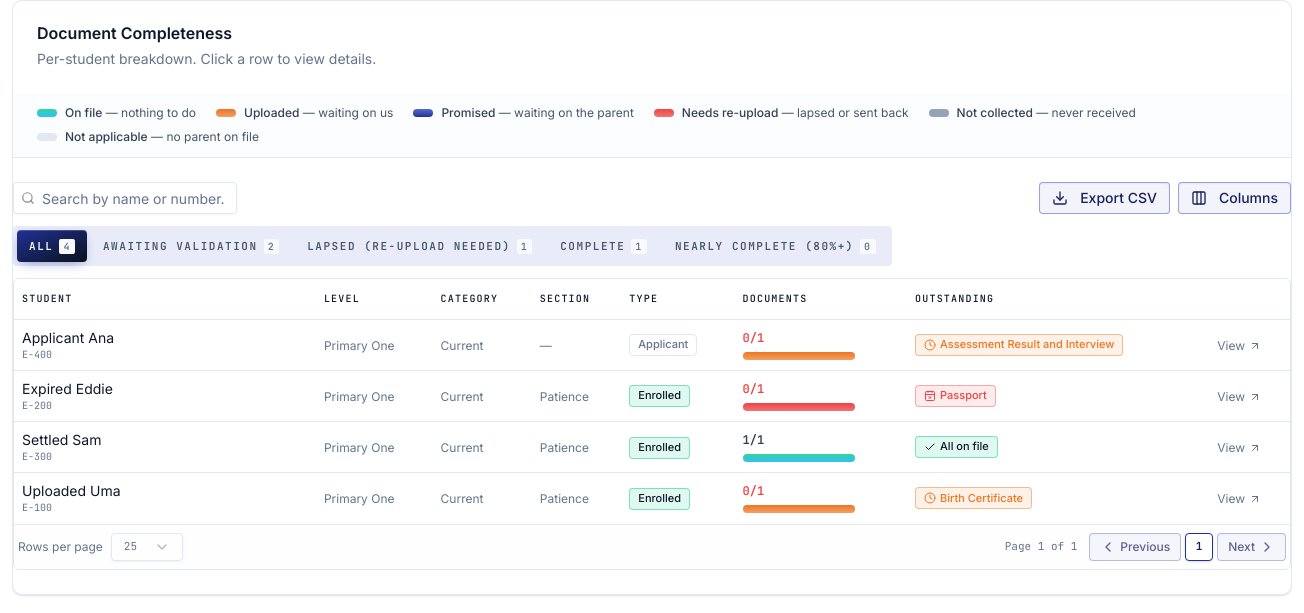
P-Files completeness table — Needs review filter › keeps Lapsed scoped to expiry, not to review
The image size is (1304, 613).
Click the tab "Lapsed (re-upload needed) 1". click: (420, 246)
box: [295,230,544,262]
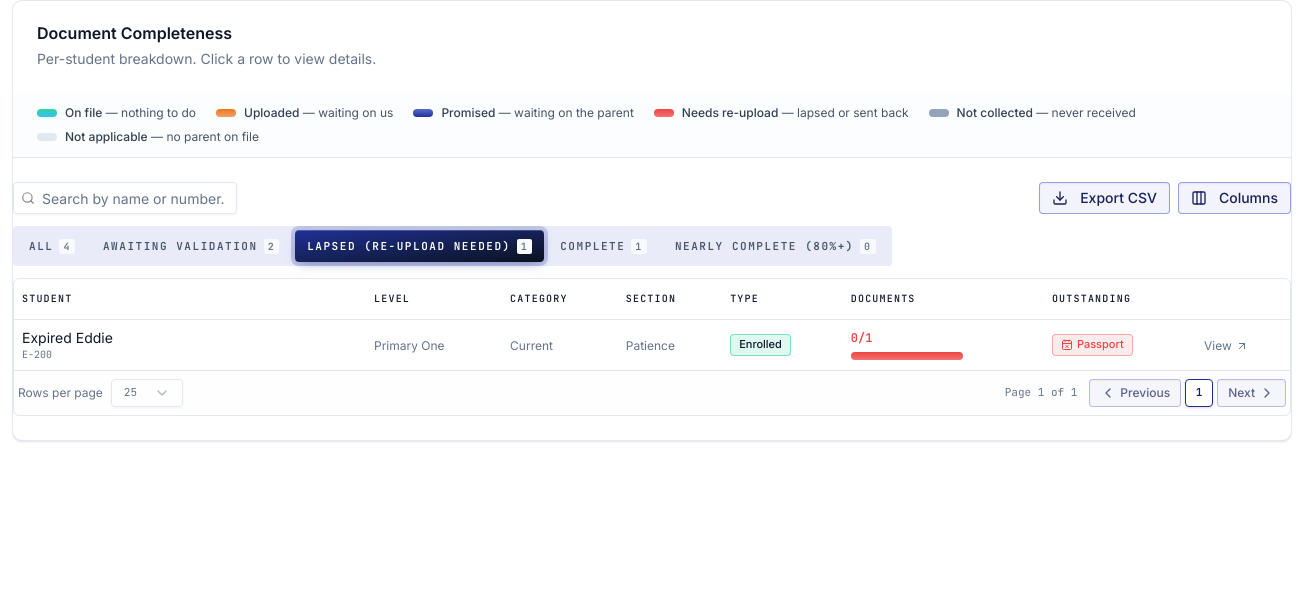
Expected: the table shows "Expired Eddie", [22,328,113,346]
Expected: the text "Uploaded Uma" is gone
